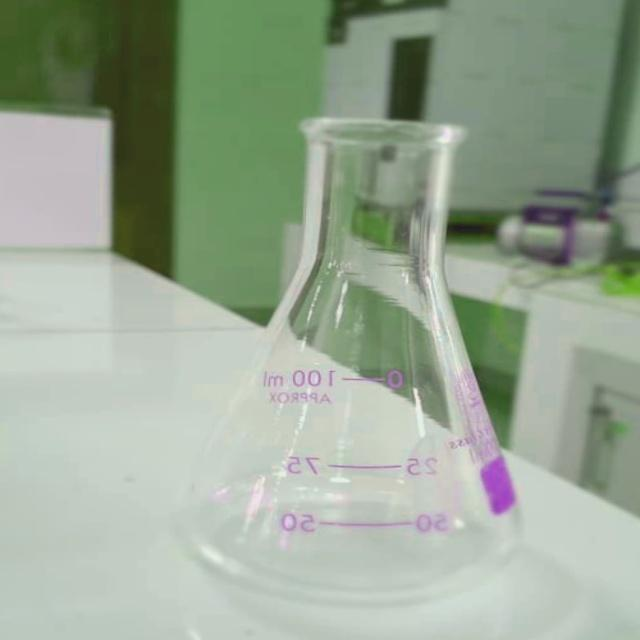Conical Flask: (164, 106, 541, 612)
